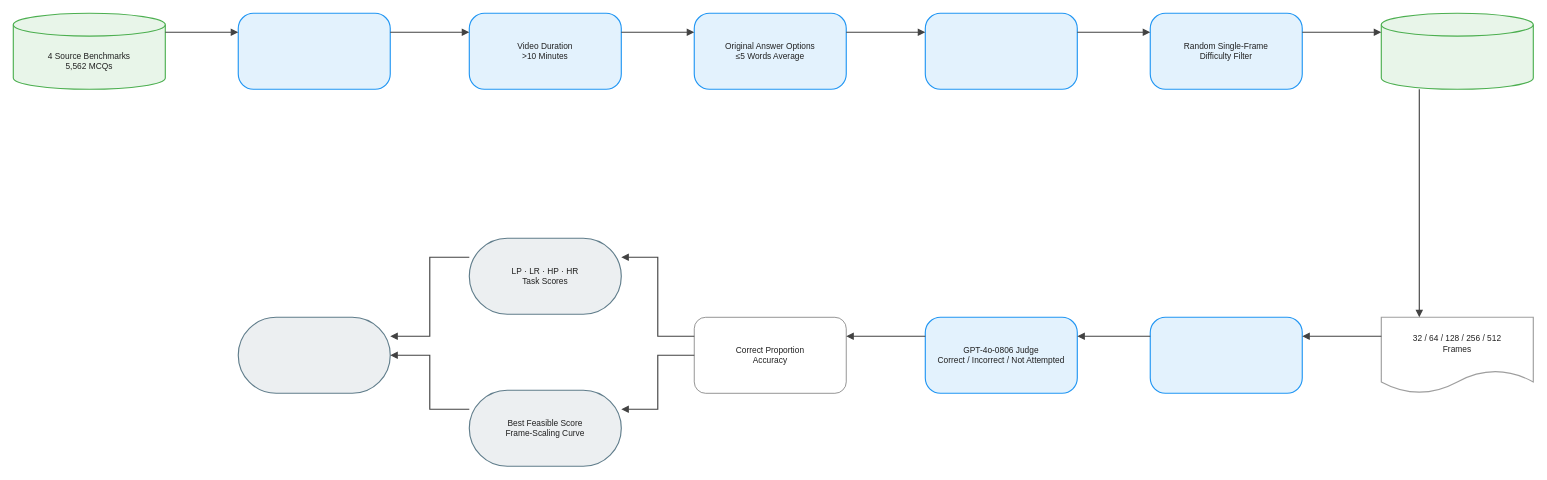
This 1547x480 diagram has some shape labels left out. The shapes that lost their labels are listed below. From the top down, each one's centre as x and y in pixels, then its label:
At pixel 313 51: "Discard Distractors Open Short Answers".
At pixel 1001 51: "Gemini 2.0 Flash Answerability Filter".
At pixel 1457 51: "465 Videos · 1,289 QA LP / LR / HP / HR".
At pixel 313 355: "VideoEval-Pro Results".
At pixel 1225 355: "Open Short Model Answer".
